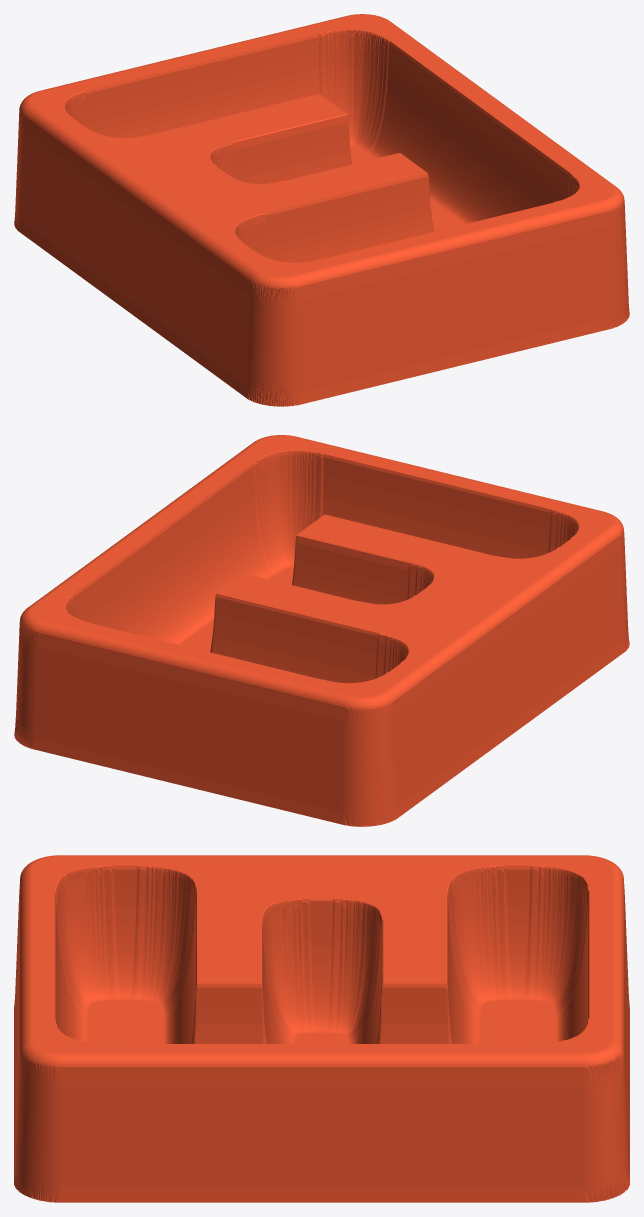
Rendered from mold.glb.
3 renders of one model, top to bottom at view 1: azimuth 30°, elevation 25°; view 2: azimuth 150°, elevation 25°; view 3: azimuth 270°, elevation 25°, orthographic. The views are drawn at different scales.
Visible parts, largest first — view 1: geometry_0; view 2: geometry_0; view 3: geometry_0.
Part boxes in pixels (x1,y1,x2,y2): geometry_0: (14, 14, 629, 406); geometry_0: (14, 435, 629, 826); geometry_0: (14, 855, 629, 1202).
Size of the model in its own units: 0.0962 by 0.0299 by 0.1178.
